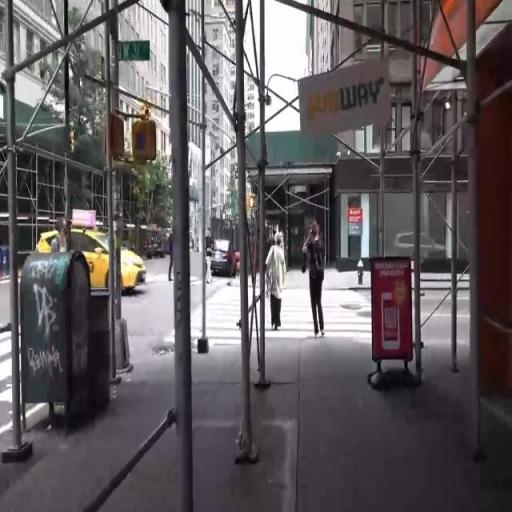person: (301, 220, 327, 339), (268, 231, 285, 330), (167, 227, 178, 281), (54, 215, 67, 253)
